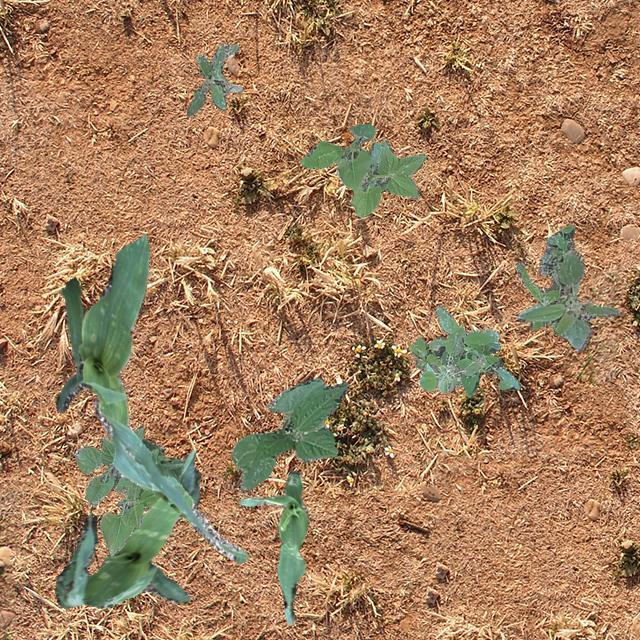crop: (55, 234, 248, 562), (54, 450, 198, 608), (230, 376, 348, 491), (74, 424, 158, 554), (238, 471, 308, 624), (142, 438, 200, 488)
weed: (300, 122, 426, 216), (408, 304, 520, 396), (516, 250, 618, 350), (514, 224, 574, 332), (418, 324, 483, 392), (186, 42, 242, 114)
